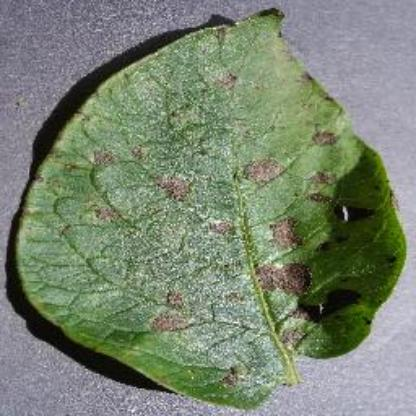Early-Blight: (9, 7, 406, 409)
